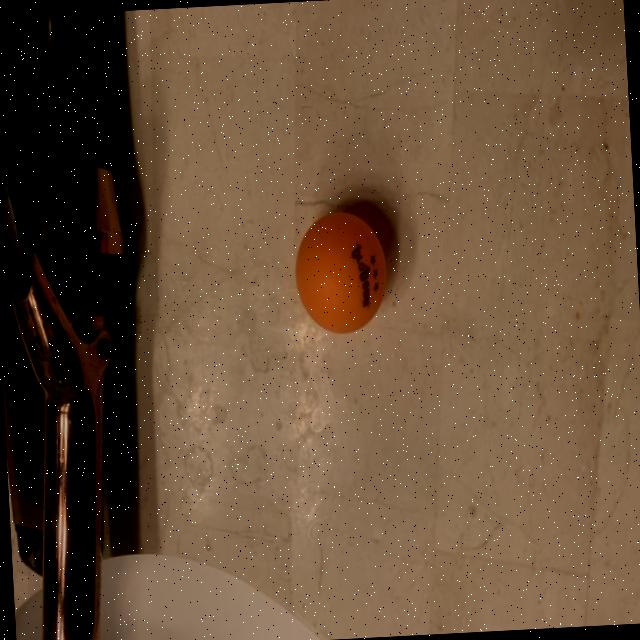ping-pong-ball: (288, 202, 398, 342)
